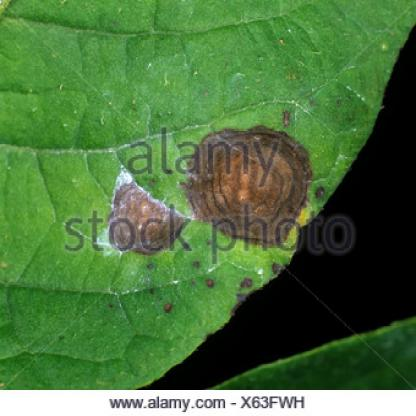Potato leaf early blight: (1, 3, 415, 389)
